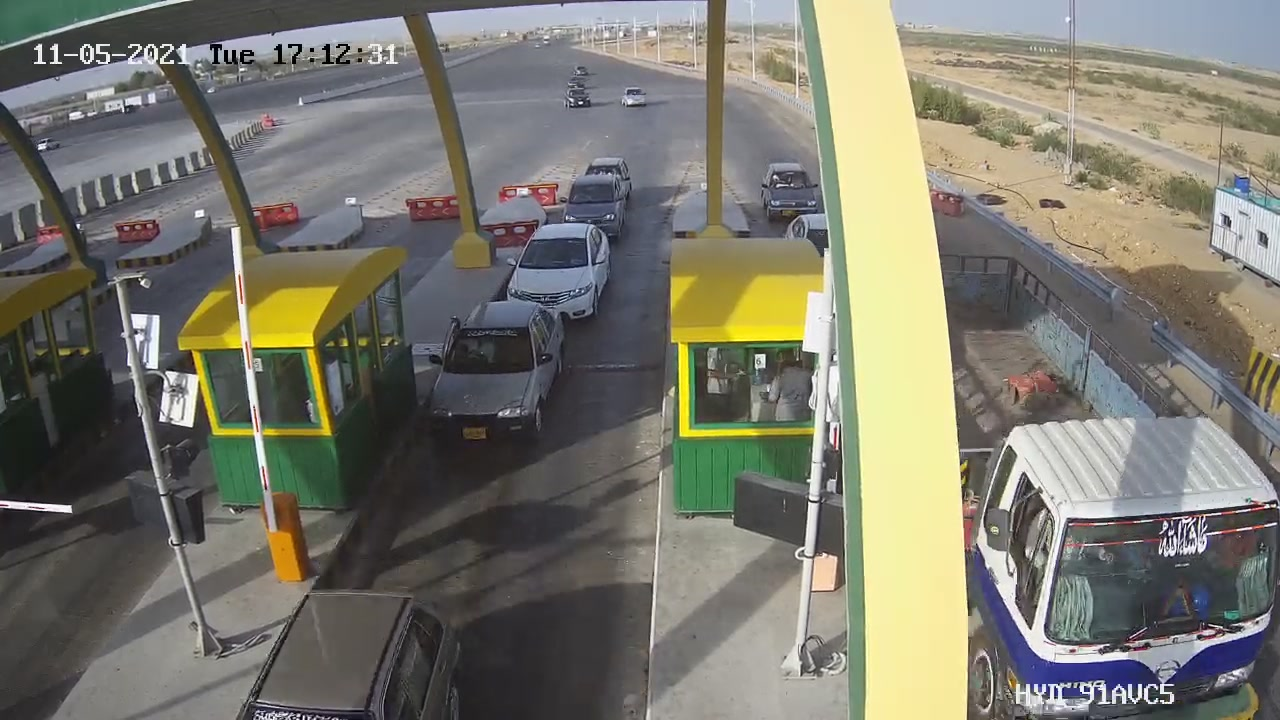F1: (407, 292, 581, 459), (494, 214, 622, 338)
